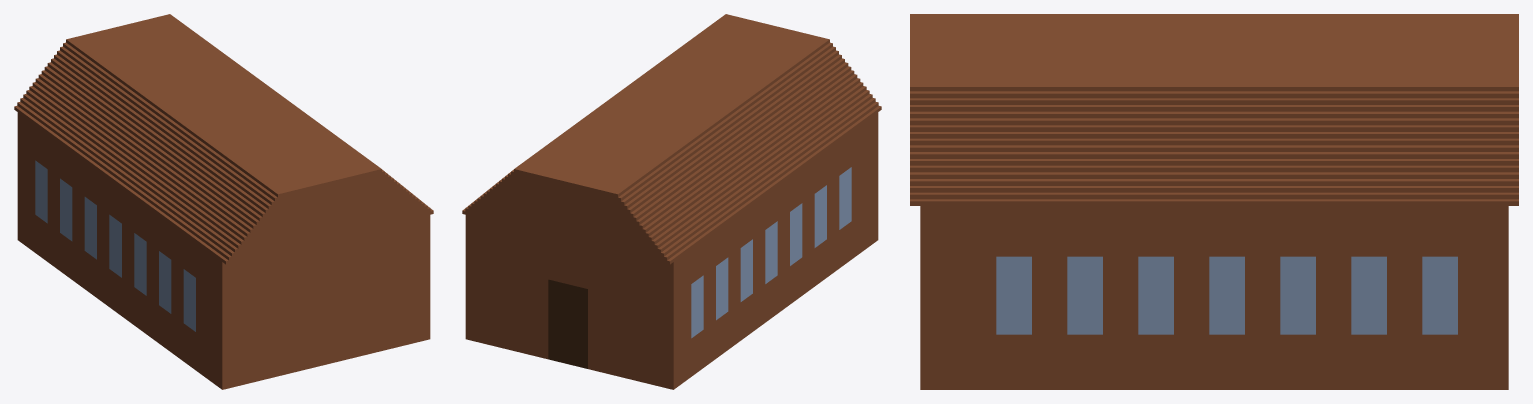
Rendered from hall.obj.
3 views of the same model, side by side, from view 1: azimuth 30°, elevation 25°; view 2: azimuth 150°, elevation 25°; view 3: azimuth 270°, elevation 25° (orthographic). The views are drawn at different scales.
Size of the model in its own units: 6.8 by 5.8 by 12.
1 material, 1 textured.
